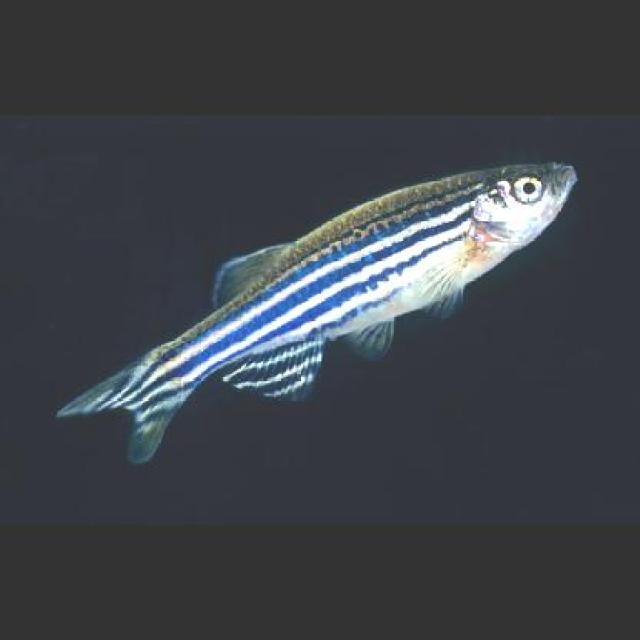ZebraFish: (61, 159, 576, 453)
